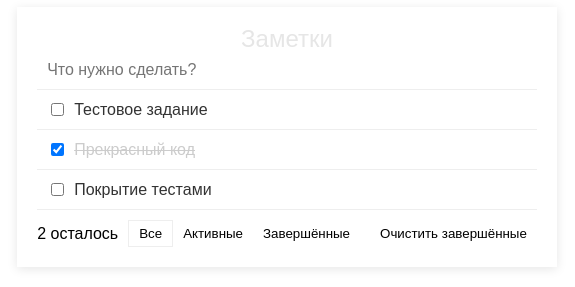
Test: TodoApp › Фильтрация задач
Click the button "Активные".
click(213, 234)  # box [173,221,253,246]
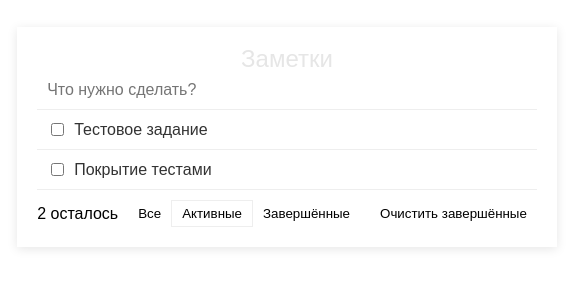
Expected: the list item "Тестовое задание" is shown, [37,110,537,150]
Result: the list item "Прекрасный код" is gone
Click the button "Завершённые".
click(306, 214)  # box [253,201,360,226]
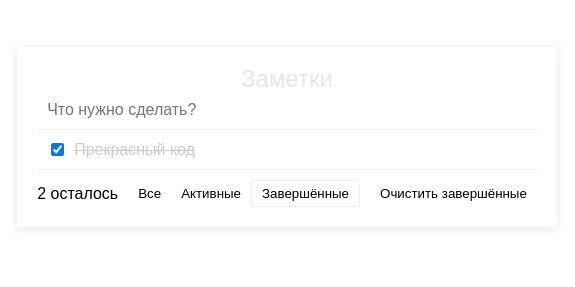
Result: the list item "Прекрасный код" is shown at [37,130,537,170]
Result: the list item "Тестовое задание" is gone
